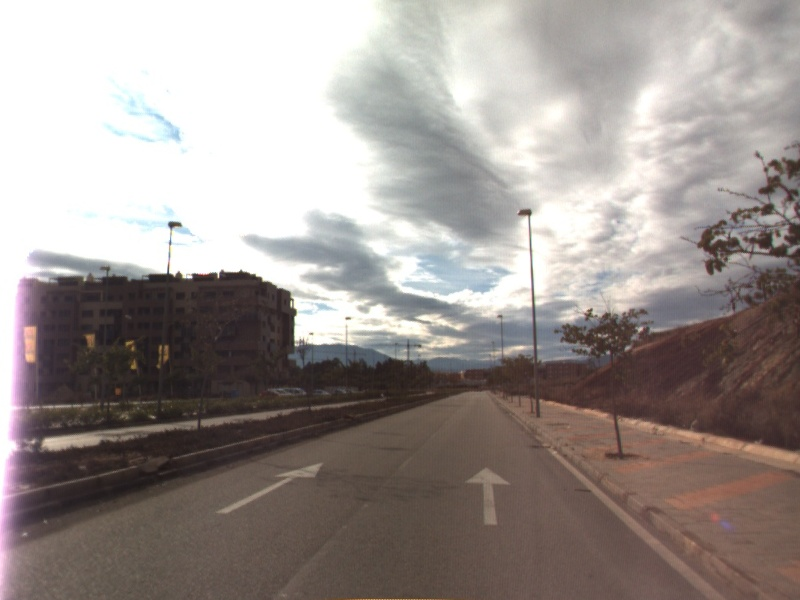STRAIGHT: (213, 460, 326, 516), (463, 465, 513, 527)
